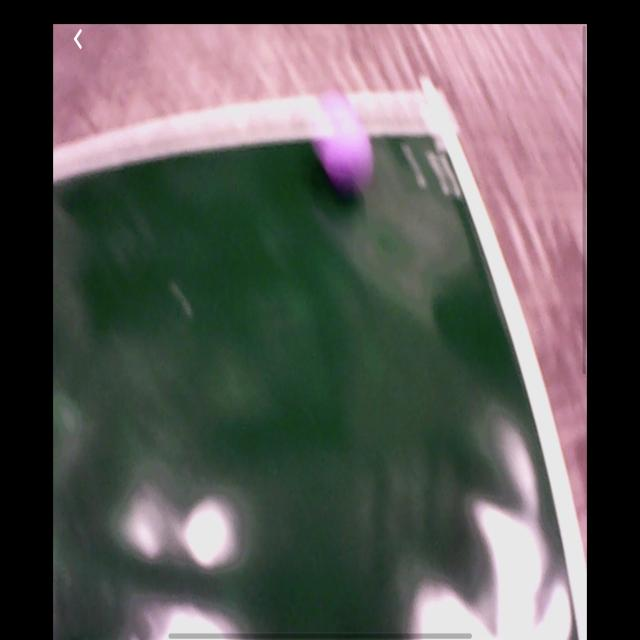ball: (328, 121, 372, 196)
